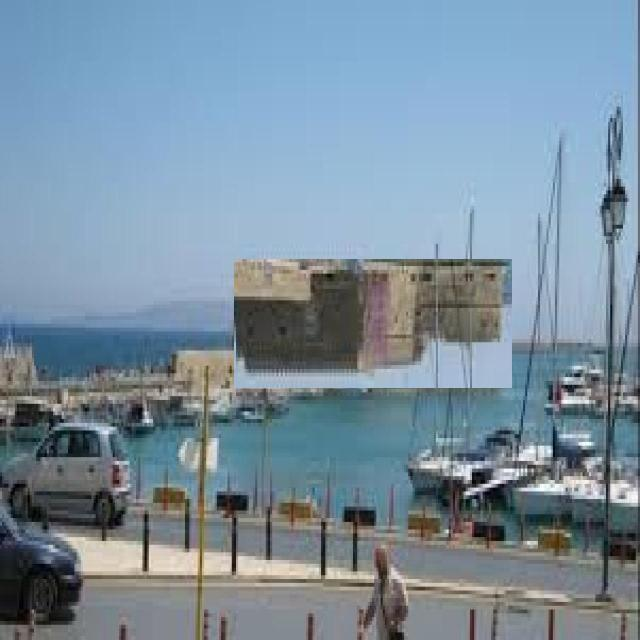Kules: (235, 260, 513, 389)
